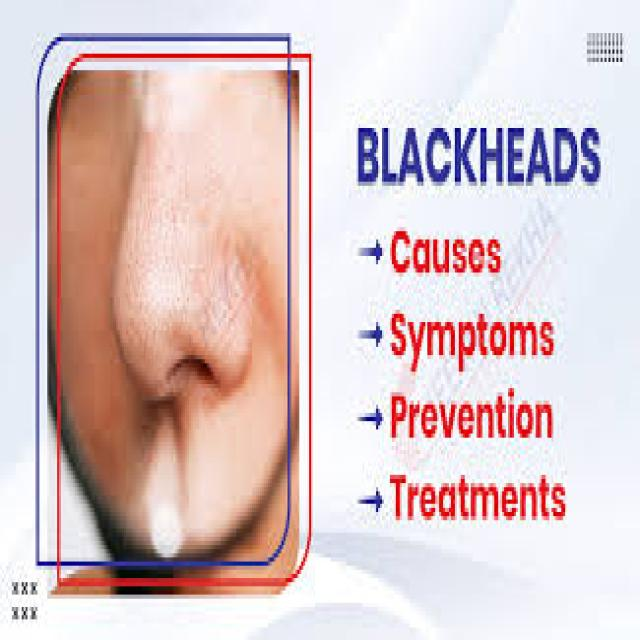Black Heads: (120, 186, 202, 370)
